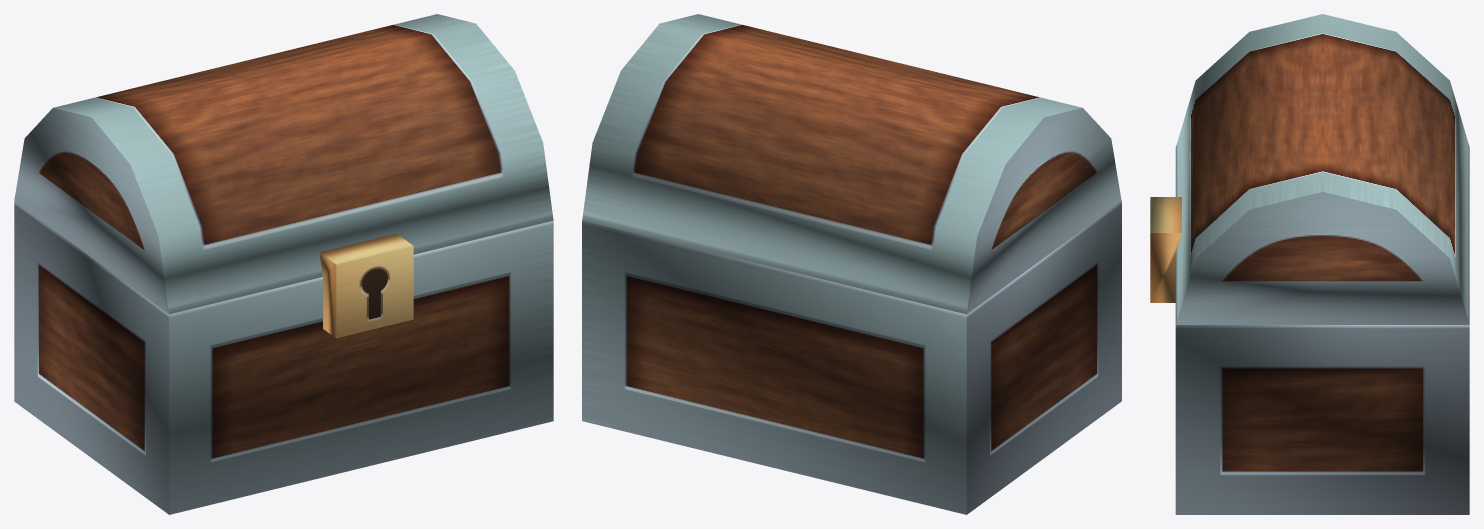
Rendered from object_chest.fbx.
3 views of the same model, side by side, from view 1: azimuth 30°, elevation 25°; view 2: azimuth 150°, elevation 25°; view 3: azimuth 270°, elevation 25° (orthographic). The views are drawn at different scales.
Parts seen in each view (by area): view 1: object_chest_01, object_chest_02; view 2: object_chest_02, object_chest_01; view 3: object_chest_01, object_chest_02.
Part boxes in pixels (left/top/right/bottom): object_chest_01: left=14, top=14, right=553, bottom=338; object_chest_02: left=14, top=201, right=553, bottom=514; object_chest_02: left=582, top=201, right=1121, bottom=514; object_chest_01: left=582, top=14, right=1121, bottom=314; object_chest_01: left=1150, top=14, right=1469, bottom=324; object_chest_02: left=1175, top=147, right=1469, bottom=514.
Bounding box in the file's own units: 12.57 × 10.65 × 9.53.
